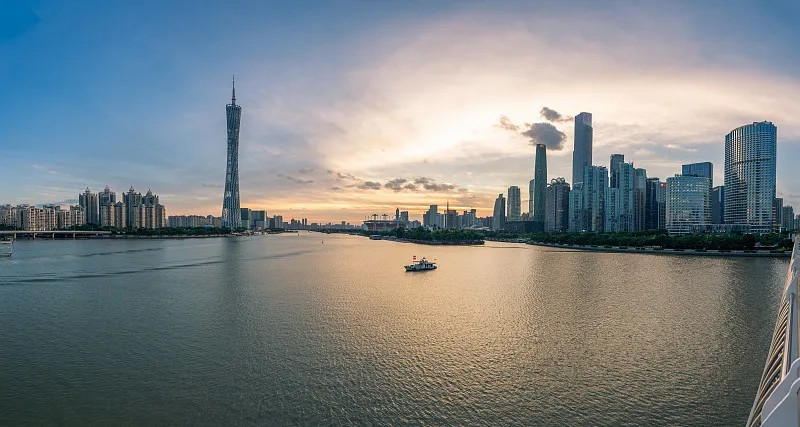Canton: (220, 75, 244, 230)
